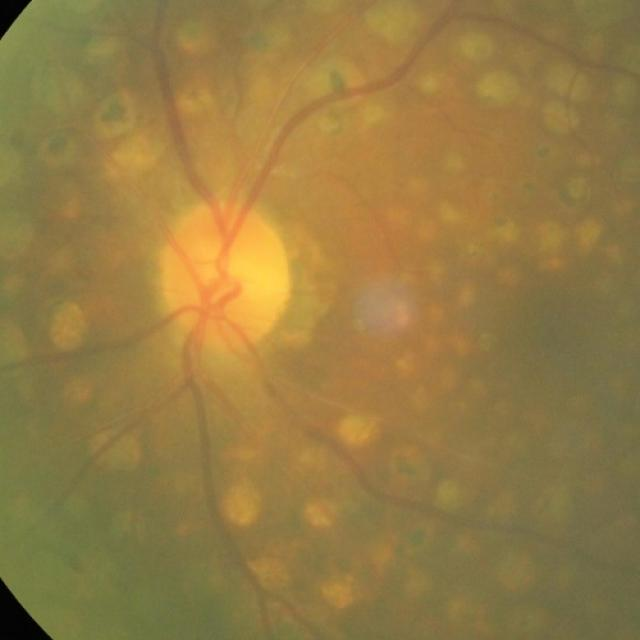OC: (202, 247, 263, 297)
OD: (162, 210, 289, 343)
